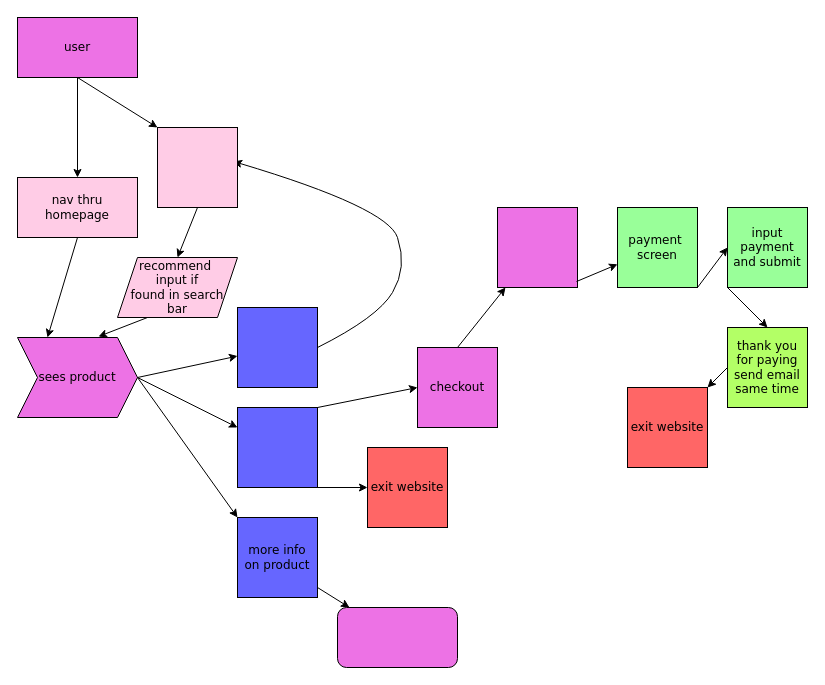
The diagram is 825 pixels wide and 685 high, and some of its shapes have lost their labels. Each missing label, with the box of its shape:
add it to cart: (236, 406, 318, 488)
product webpage opens: (336, 606, 458, 668)
scroll pass: (236, 306, 318, 388)
search product: (156, 126, 238, 208)
view cart: (496, 206, 578, 288)
